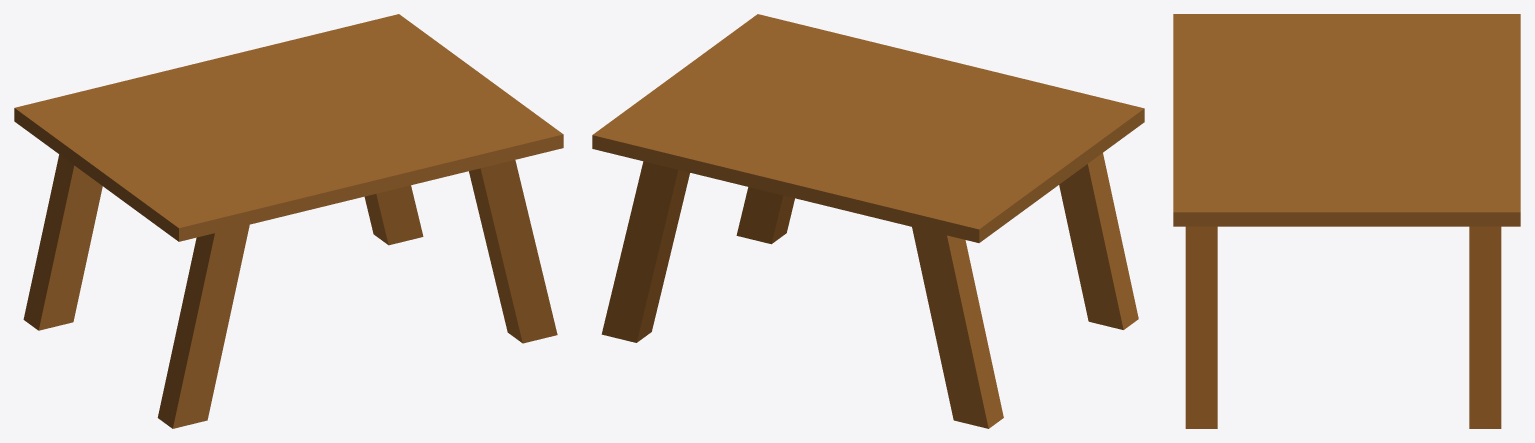
Rendered from table.glb.
3 renders of one model, left to right at view 1: azimuth 30°, elevation 25°; view 2: azimuth 150°, elevation 25°; view 3: azimuth 270°, elevation 25°, orthographic. The views are drawn at different scales.
Visible parts, largest first — view 1: Cube.001, Cube, Cube.002; view 2: Cube.001, Cube, Cube.002; view 3: Cube.001, Cube.002.
Boxes of the visible parts, box(x1,y1,x2,y2) form: Cube.001: box(14, 14, 563, 241); Cube: box(23, 154, 249, 428); Cube.002: box(364, 160, 557, 343); Cube.001: box(592, 14, 1144, 242); Cube: box(912, 153, 1138, 428); Cube.002: box(601, 161, 794, 342); Cube.001: box(1173, 14, 1520, 226); Cube.002: box(1185, 226, 1501, 428).
Size of the model in its own units: 6.31 by 3.21 by 4.67.
